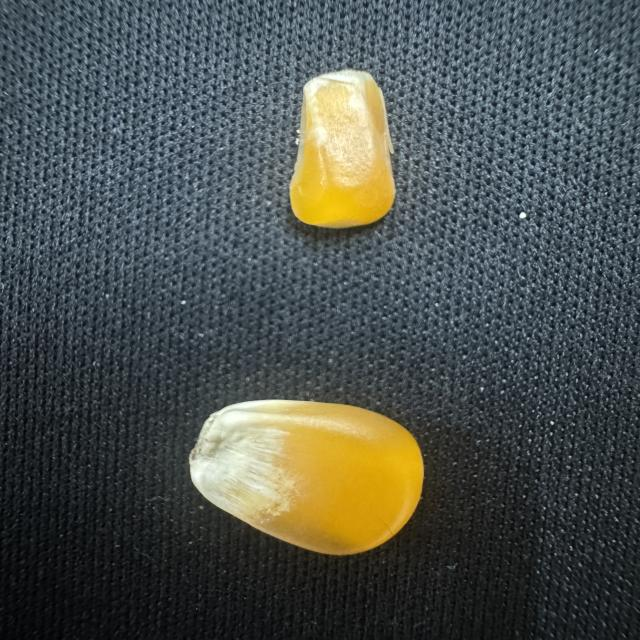Bad-Seed: (286, 66, 402, 233)
Good-Seed: (184, 393, 434, 561)
